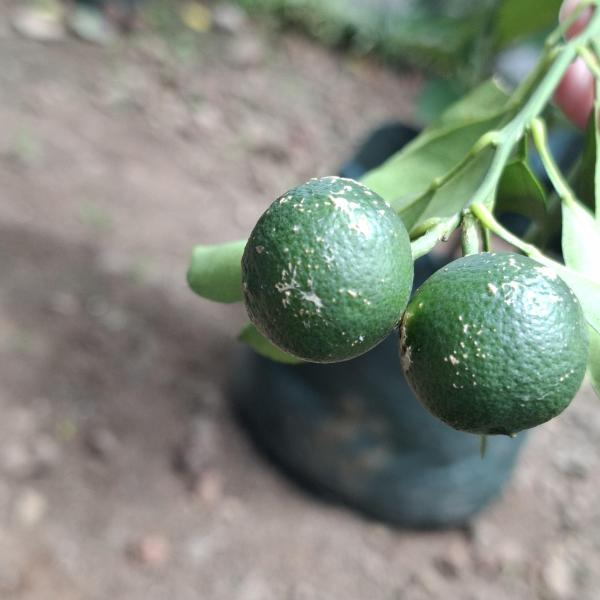Scab: (233, 163, 421, 372), (395, 244, 591, 444)
